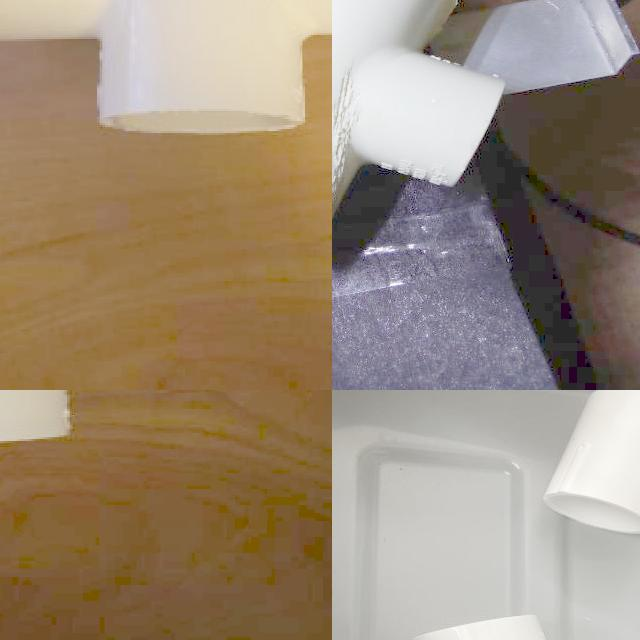Defective: (419, 0, 460, 51)
T Joint: (332, 0, 506, 227)
